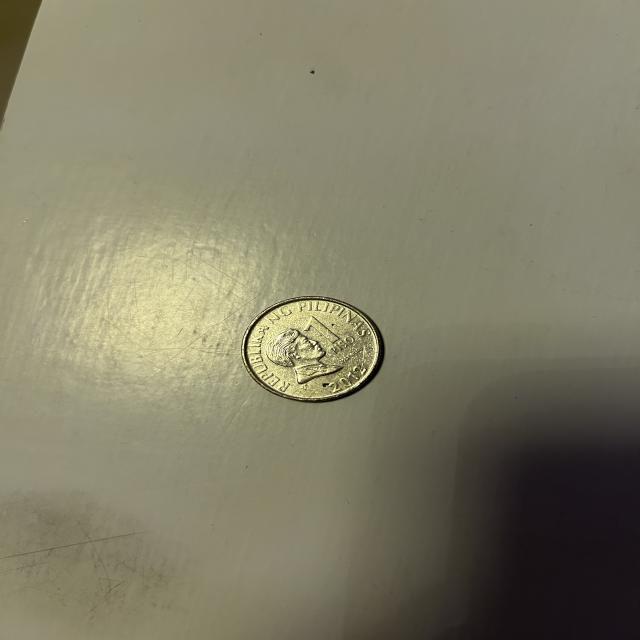1_Old_Front: (301, 317, 357, 358)
